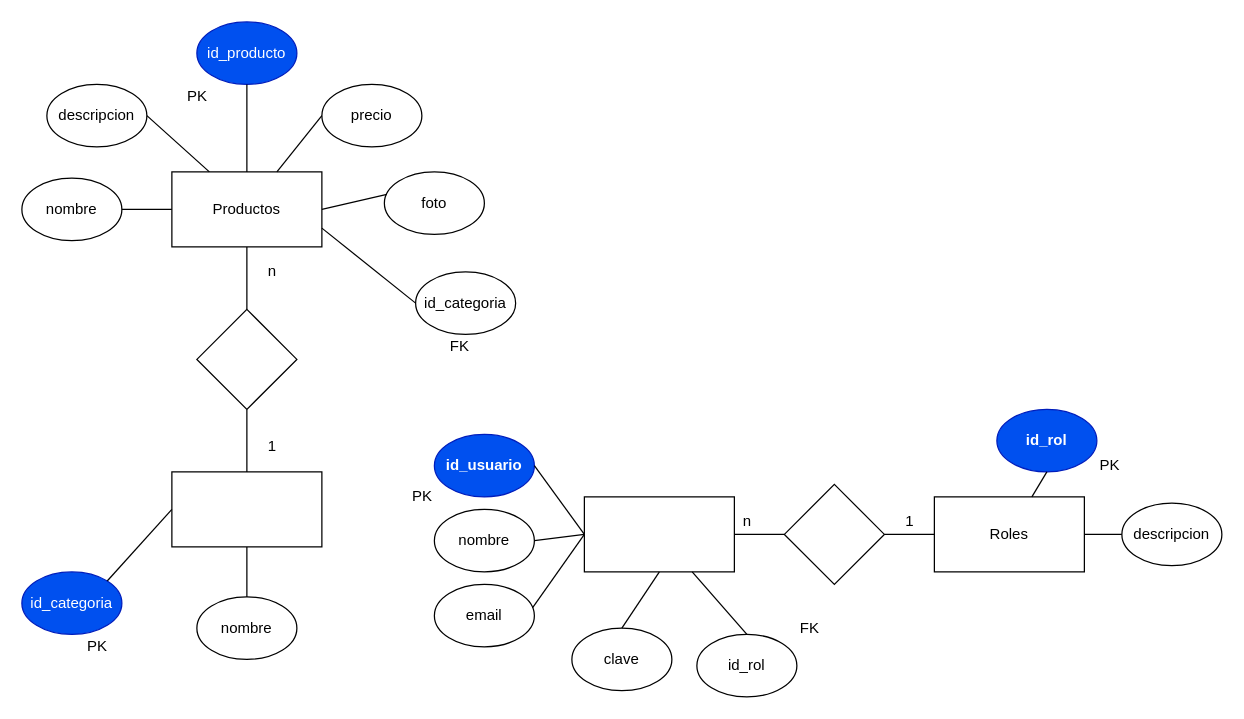
The diagram is 1244 pixels wide and 719 high, and some of its shapes have lost their labels. The centre of each missing label's shape, as x and y in pixels:
"Categorias" belongs at [246,509].
"pertenece" belongs at [246,358].
"tiene" belongs at [833,533].
"Usuario" belongs at [658,534].
